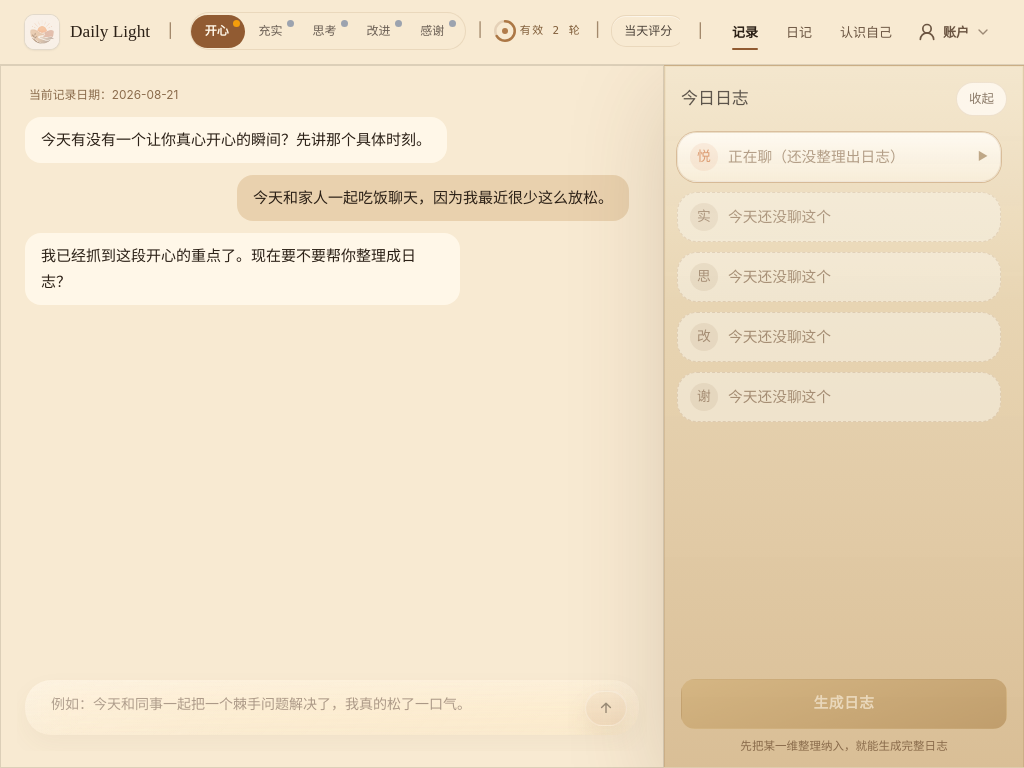
Test: InterviewShell › auto-generates from the streamed next session before the old render state clears busy and unlock flags
Expected: the text "有效 2 轮" is shown, [520,22,581,40]
Type "直接生成日志" into the text box at (332, 704), box [35,686,629,722]
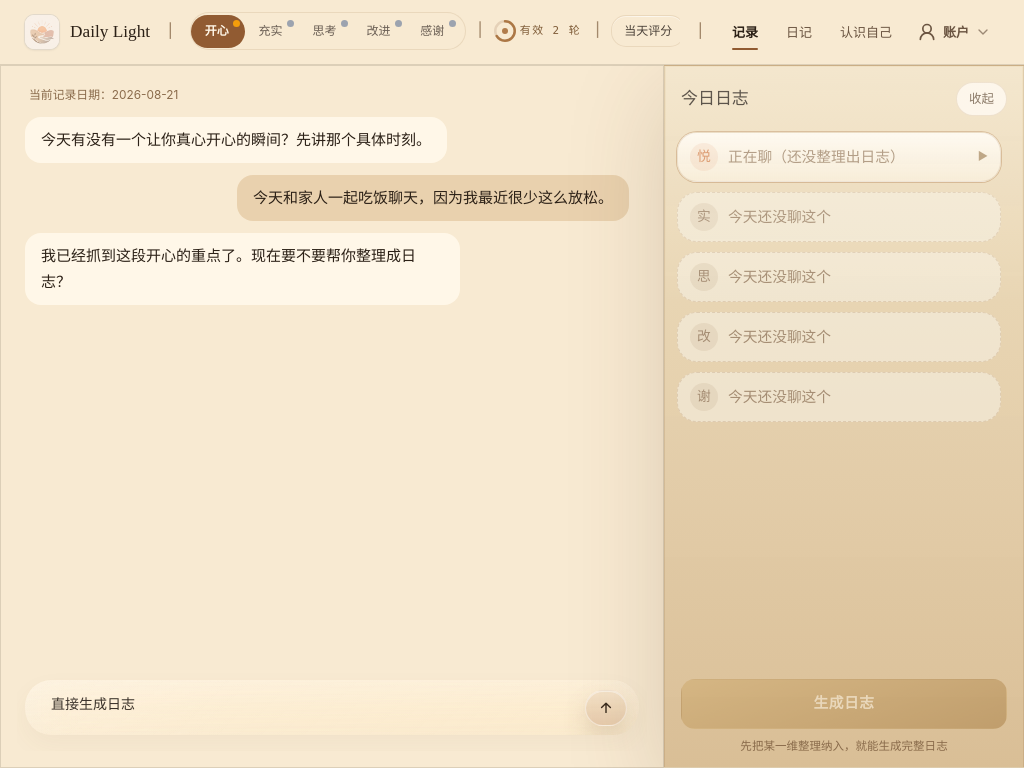
Click the button named "发送回答" at (606, 708), box [585,690,627,726]
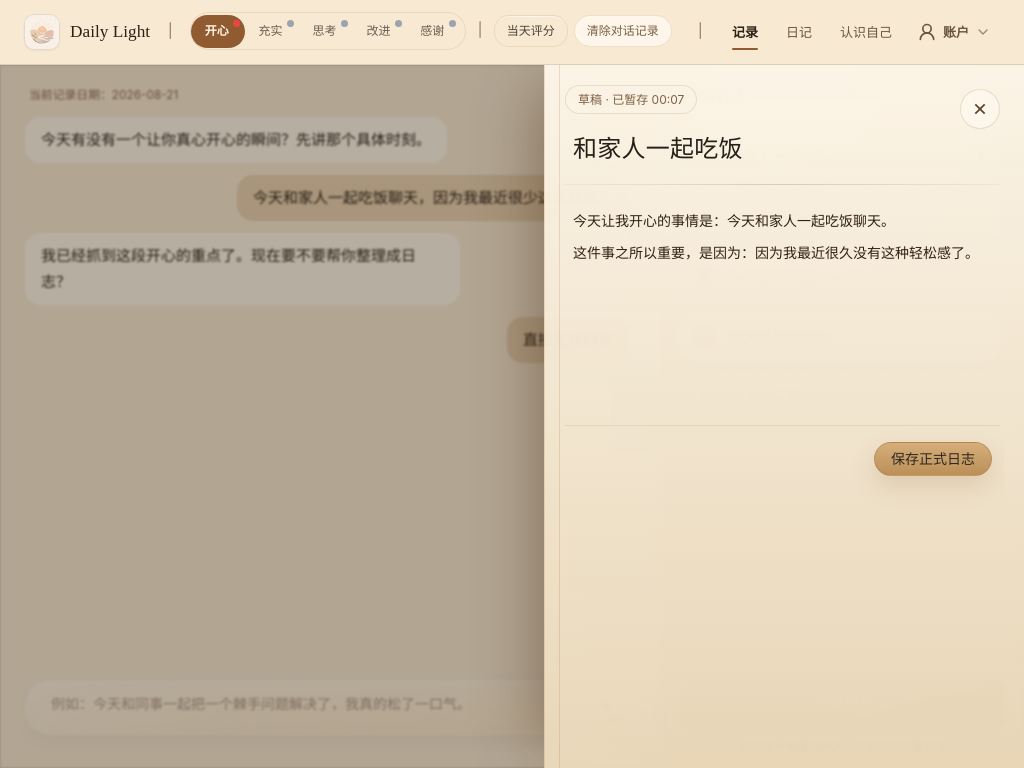
Expected: the element with test id "journal-editor-card" is shown, [565,126,1000,500]
